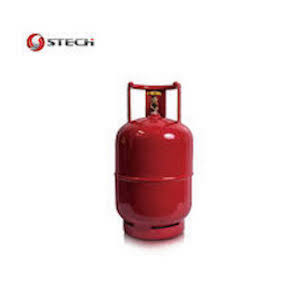combustible: (117, 81, 195, 240)
